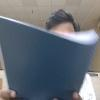notebook: (0, 13, 99, 99)
